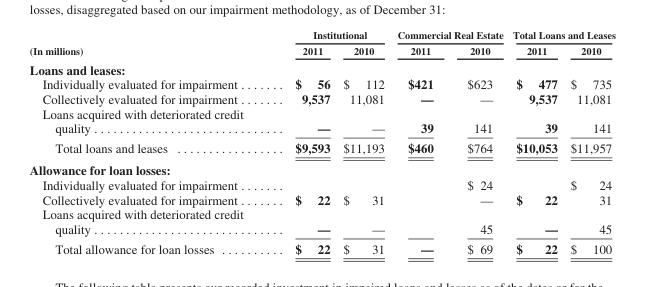table: (28, 28, 614, 255)
table column: (28, 28, 268, 255), (268, 28, 336, 255), (390, 28, 449, 255), (449, 28, 507, 255), (507, 28, 563, 255), (336, 28, 390, 255), (563, 28, 614, 255)
table column header: (28, 28, 614, 58)
table projected row header: (28, 158, 614, 177), (28, 58, 614, 76)
table row: (28, 105, 614, 137), (28, 206, 614, 238), (28, 137, 614, 158), (28, 158, 614, 177), (28, 58, 614, 76), (28, 238, 614, 255), (28, 42, 614, 58), (28, 76, 614, 91), (28, 191, 614, 206), (28, 28, 614, 42), (28, 91, 614, 105), (28, 177, 614, 191)
table spanning cell: (28, 28, 268, 58), (268, 28, 390, 42), (390, 28, 507, 42), (507, 28, 614, 42)
